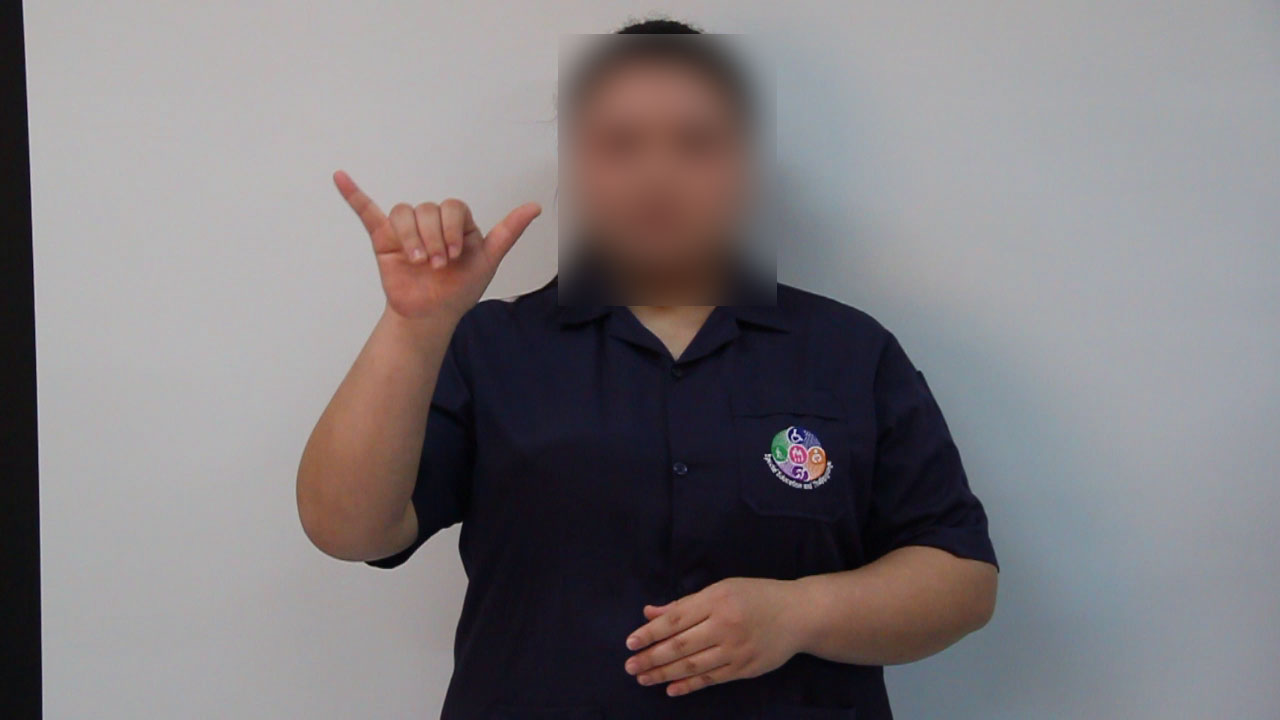yor: (316, 163, 556, 332)
